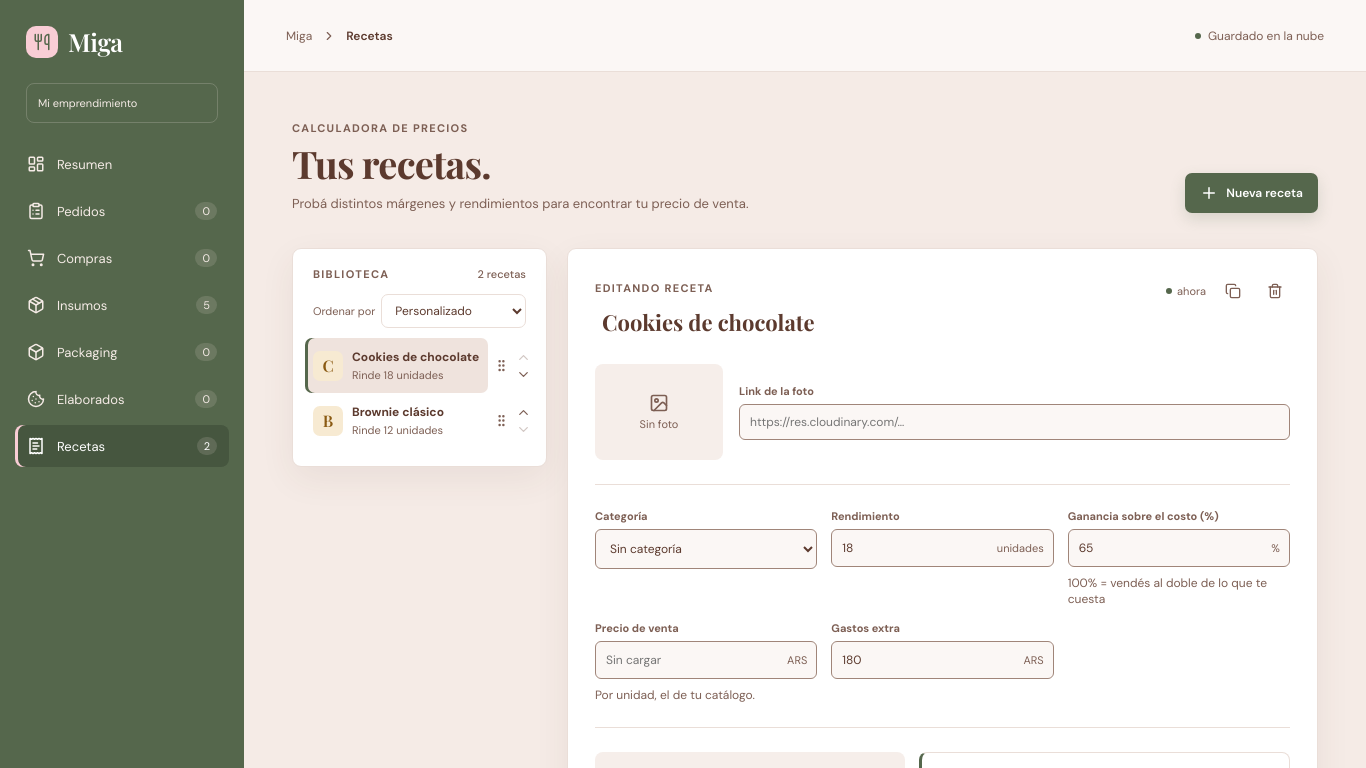
Test: App › moves to another recipe after deleting the open one
What coordinates should you click on to do the following:
click the button named "Eliminar receta"
I would click on:
 (1275, 291)
Its box is [1260,276,1290,306].
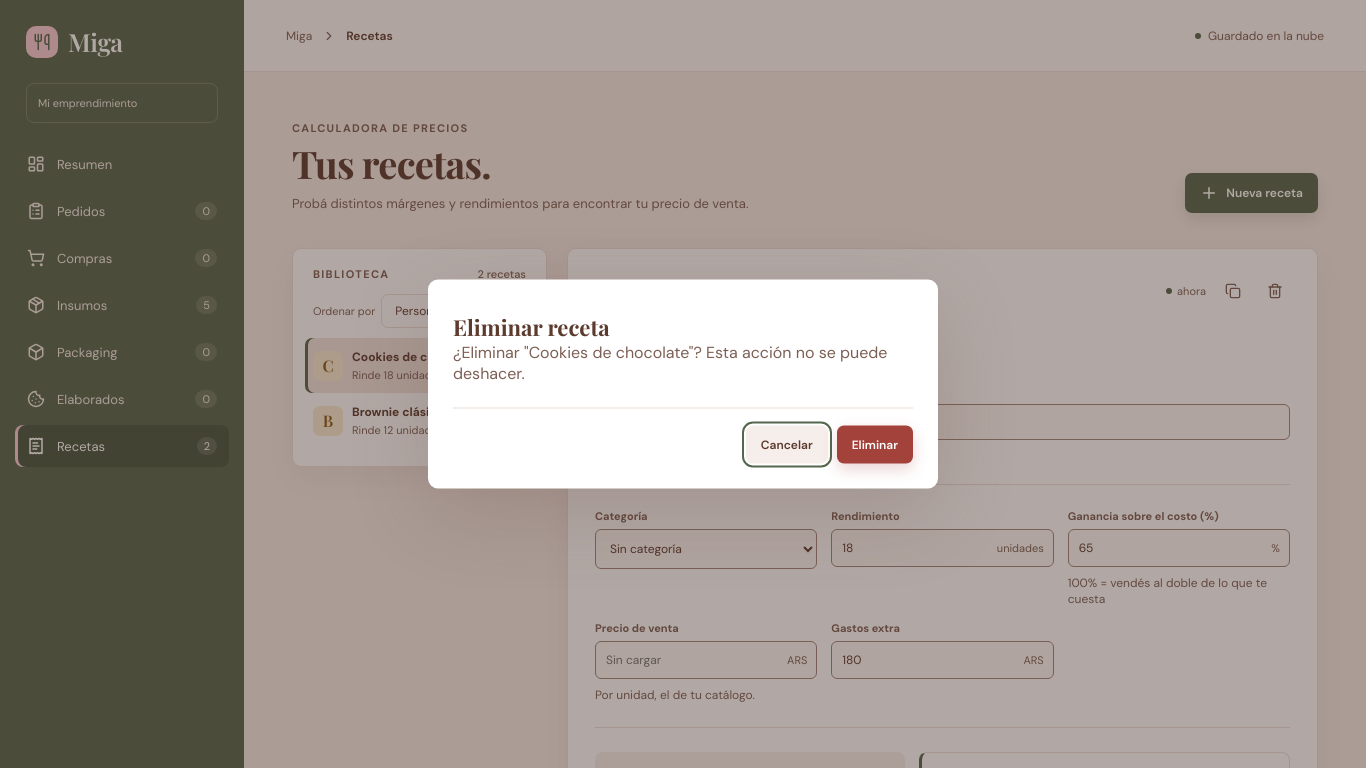
What coordinates should you click on to do the following:
click the button "Eliminar"
I would click on:
 (875, 444)
Its box is [837,426,913,464].
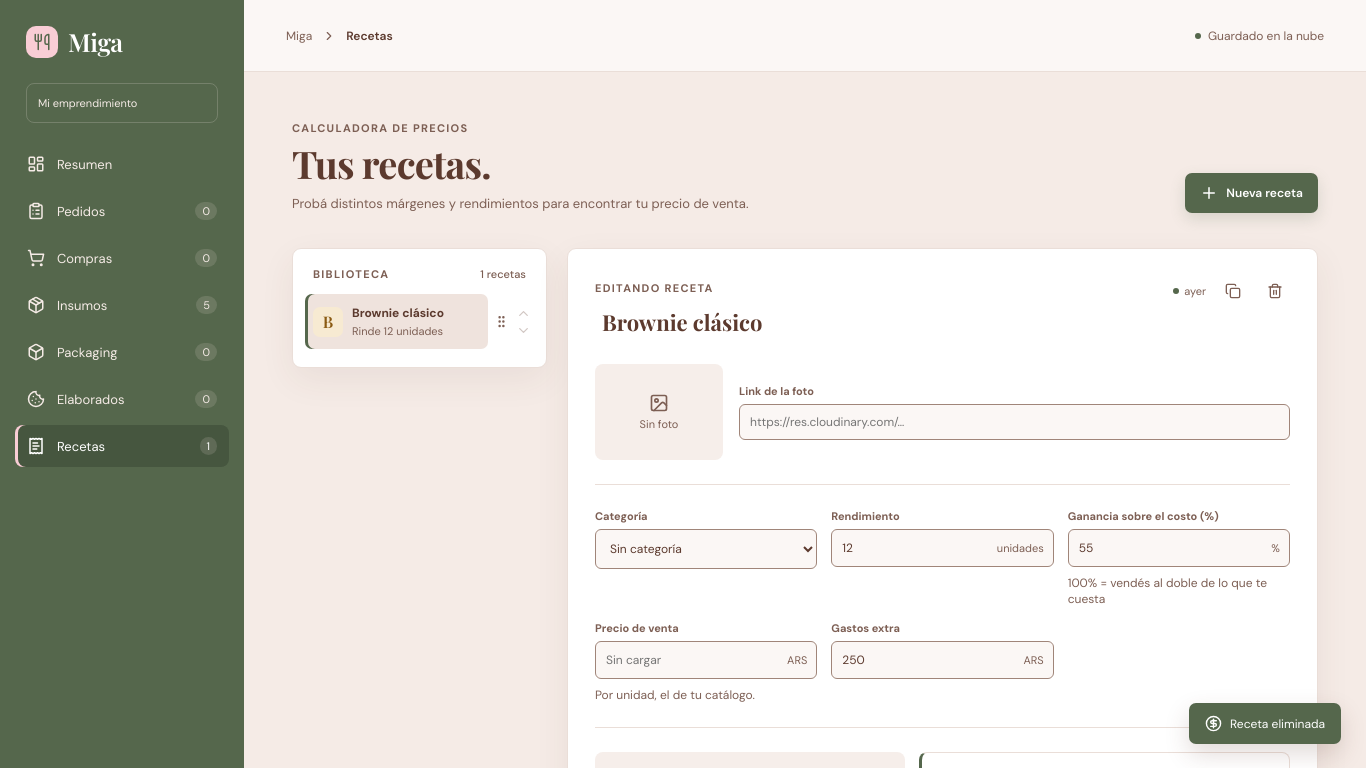
Now the field showing "Brownie clásico" is shown, box [595,304,1161,340]
